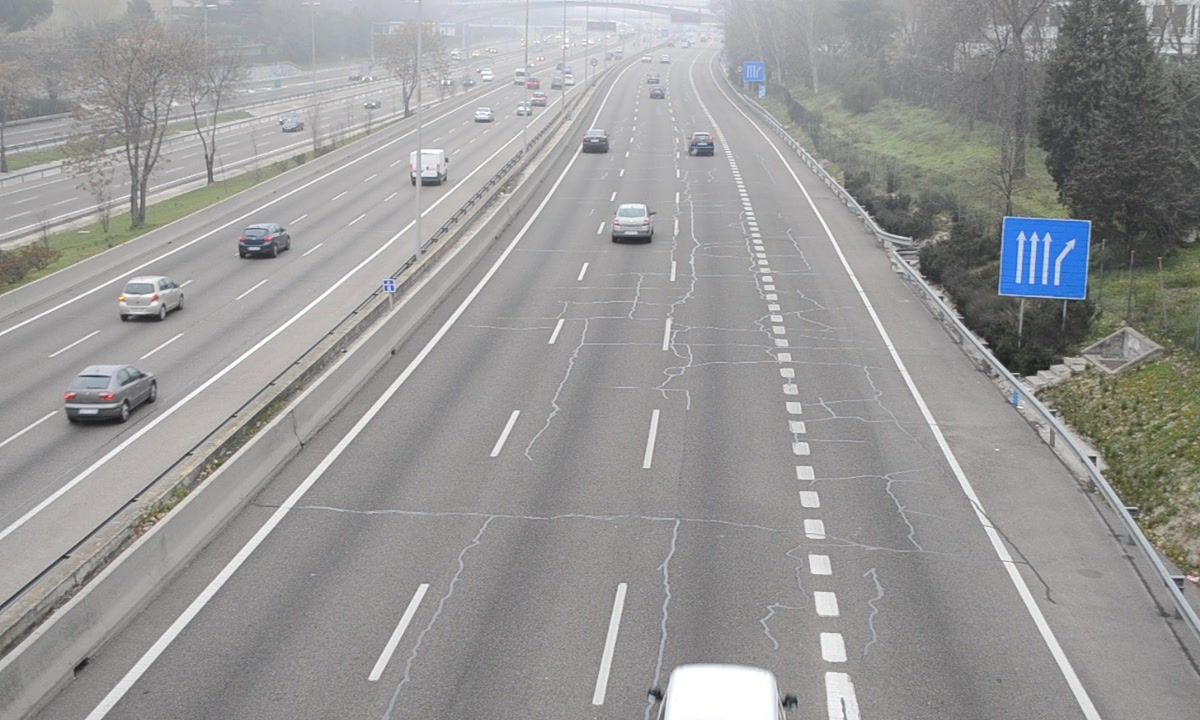car: (613, 203, 654, 242), (687, 131, 716, 158), (582, 130, 610, 155)
